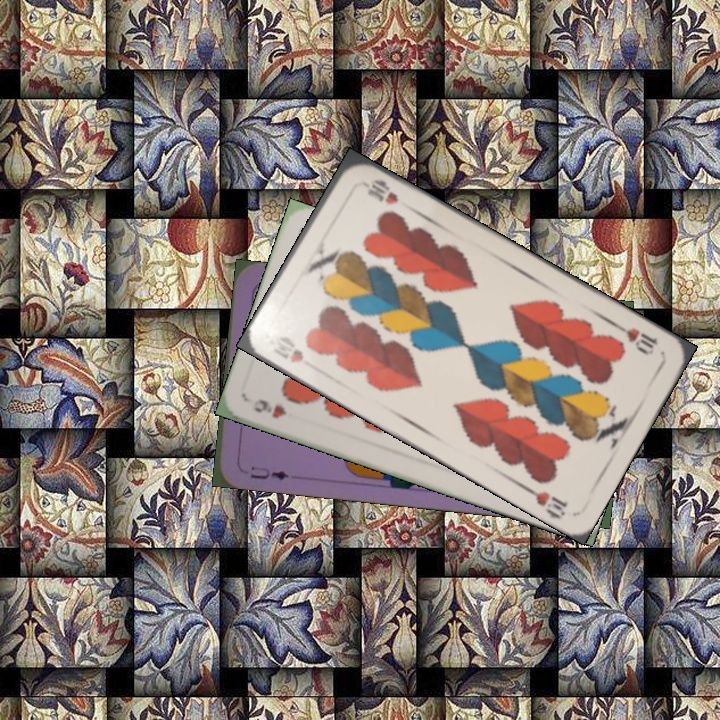EU: (246, 462, 291, 483)
H10: (611, 319, 660, 358), (268, 332, 307, 366)
H9: (249, 395, 289, 421)
